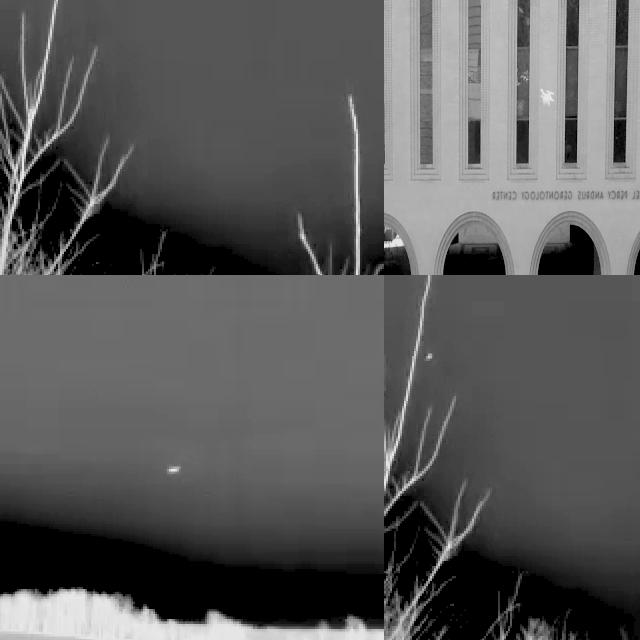0: (423, 348, 441, 368)
1: (158, 458, 190, 488)
drone: (538, 82, 556, 110)
